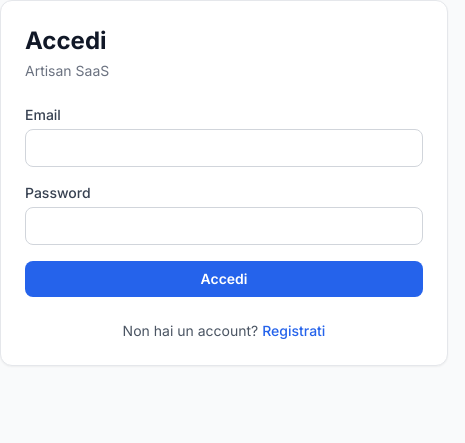
Test case: LoginPage › shows the backend error message
Type "demo@gommista.it" into the field labelled "Email".
click(224, 148); type("demo@gommista.it")  # box [25, 129, 423, 167]
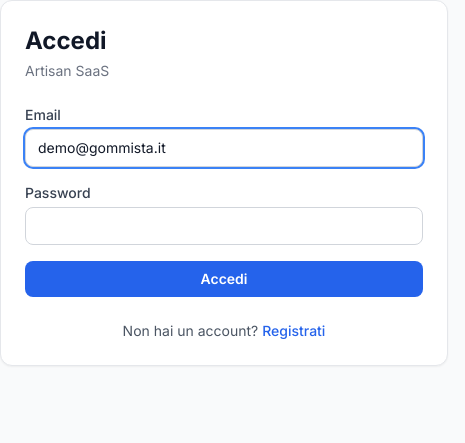
Type "wrong" into the password field labelled "Password".
click(224, 226); type("wrong")  # box [25, 207, 423, 245]
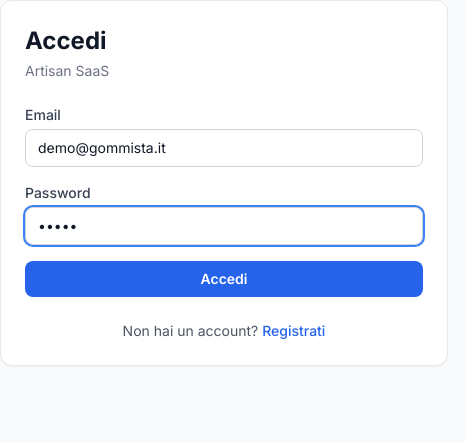
Click the button "Accedi".
click(224, 279)  # box [25, 261, 423, 297]
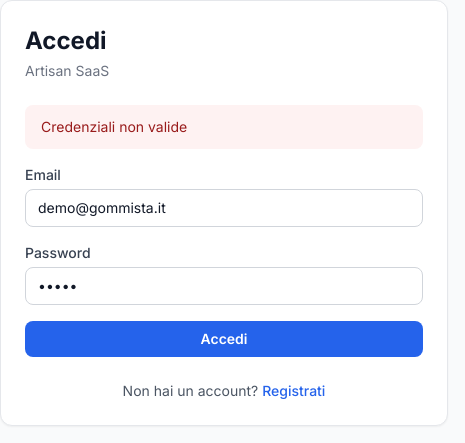
Expected: the message reads "Credenziali non valide", [41, 118, 187, 135]
